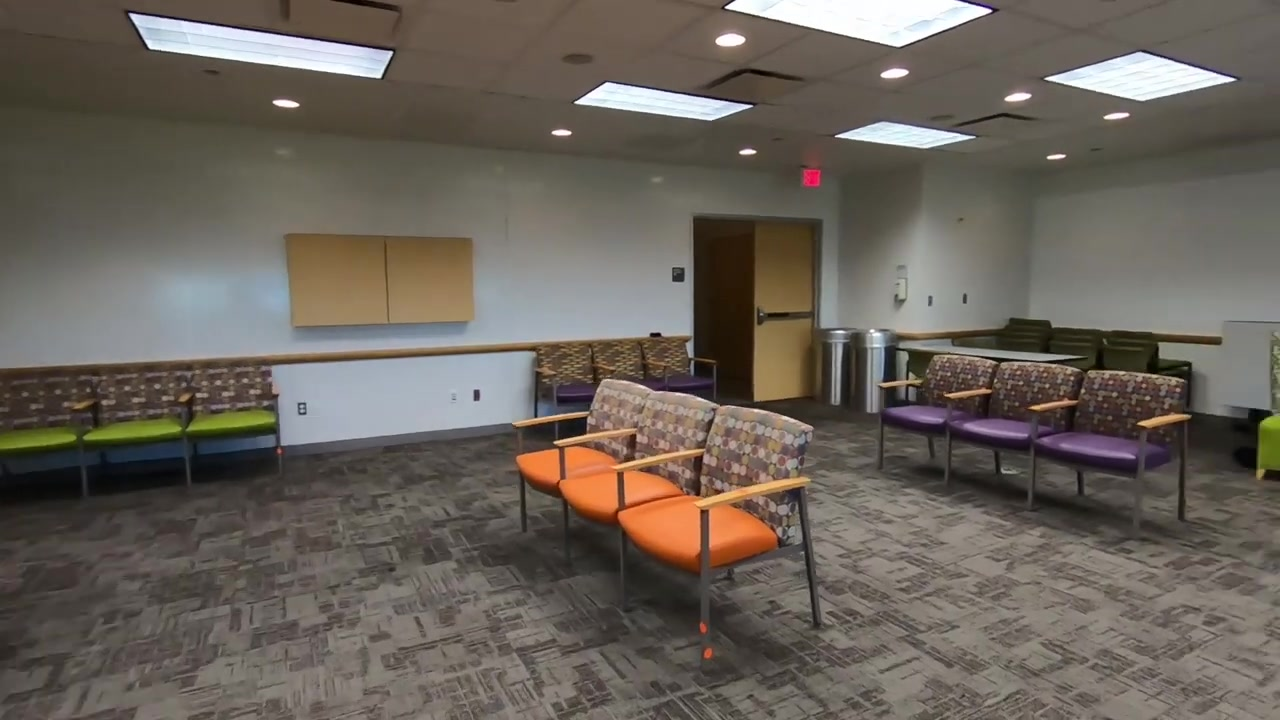chair: (609, 404, 823, 678), (554, 390, 719, 613), (1027, 369, 1192, 542), (511, 378, 655, 568), (942, 360, 1085, 511), (71, 361, 198, 498), (876, 354, 1000, 475), (1, 364, 108, 498), (177, 357, 283, 480), (534, 343, 616, 419), (643, 337, 718, 403), (590, 339, 671, 392)
dispenser: (892, 275, 909, 307)
press_to_open: (670, 266, 686, 283)
push_latch: (755, 306, 820, 324)
waste_bin: (855, 328, 897, 412), (811, 327, 855, 407)
